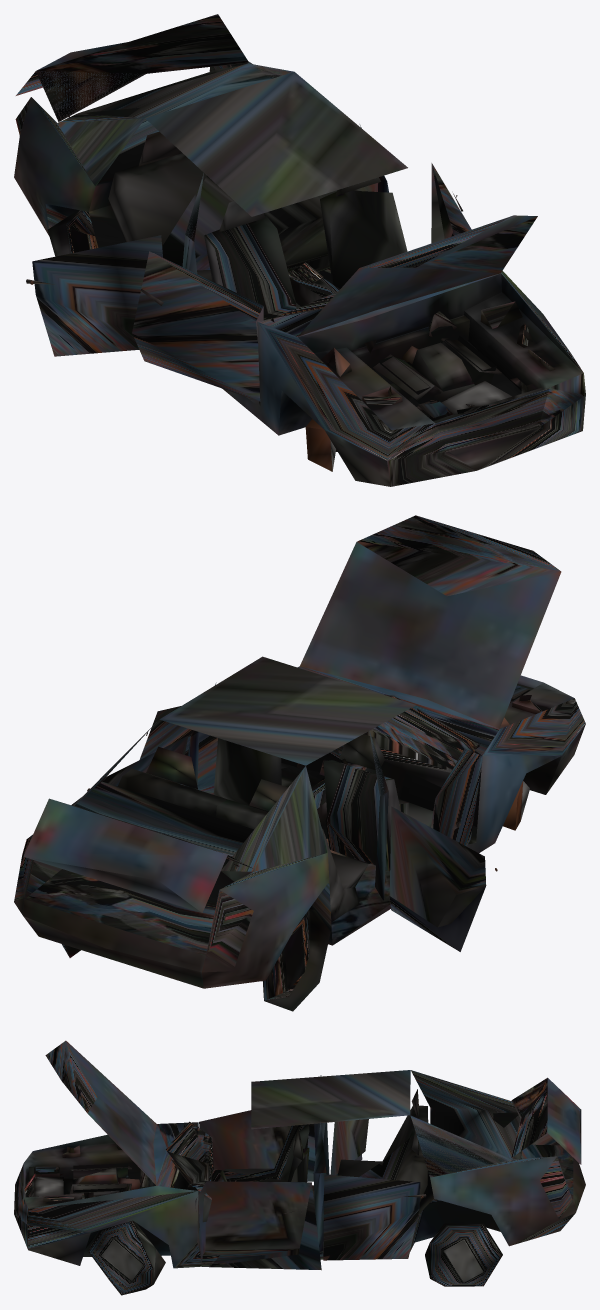
File: rust-sedan.lod1.glb
3 renders of one model, top to bottom at view 1: azimuth 30°, elevation 25°; view 2: azimuth 150°, elevation 25°; view 3: azimuth 270°, elevation 25°, orthographic. The views are drawn at different scales.
Parts seen in each view (by area): view 1: Object_4; view 2: Object_4; view 3: Object_4.
Boxes of the visible parts, left/top/right/bottom form: Object_4: left=14, top=14, right=585, bottom=486; Object_4: left=14, top=515, right=585, bottom=1011; Object_4: left=14, top=1040, right=585, bottom=1295.
Bounding box in the file's own units: 2.81 × 1.73 × 4.78.
1 material, 1 textured.
